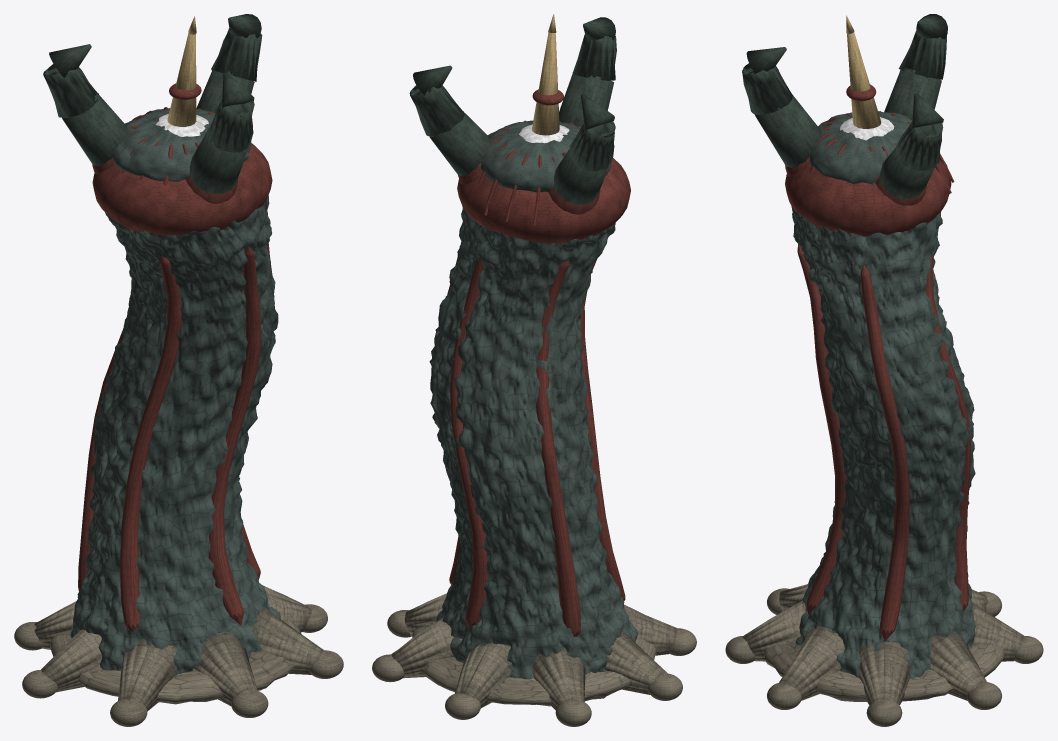
The model's file is MortarLeech.glb.
3 views of the same model, side by side, from view 1: azimuth 30°, elevation 25°; view 2: azimuth 150°, elevation 25°; view 3: azimuth 270°, elevation 25° (orthographic). The views are drawn at different scales.
Visible parts, largest first — view 1: Anchored soft column, Collar base, Tension rib 3, Tension rib 4, Raised annular mantle, Ground adhesion pad, Mineral holdfast 5, Mineral holdfast 6, Upper hook shaft 2, Mineral holdfast 7, Upper hook shaft 3, Mineral holdfast 4 (+17 smaller); view 2: Anchored soft column, Collar base, Tension rib 2, Raised annular mantle, Ground adhesion pad, Tension rib 1, Mineral holdfast 2, Mineral holdfast 3, Upper hook shaft 1, Mineral holdfast 1, Mineral holdfast 4, Tension rib 3 (+17 smaller); view 3: Anchored soft column, Collar base, Tension rib 0, Raised annular mantle, Tension rib 4, Ground adhesion pad, Mineral holdfast 0, Mineral holdfast 7, Upper hook shaft 3, Tension rib 1, Mineral holdfast 1, Mineral holdfast 6 (+16 smaller).
Boxes of the visible parts, x1,y1,x2,y2 form: Anchored soft column: (70,195,280,675); Collar base: (92,143,272,235); Tension rib 3: (119,255,181,632); Tension rib 4: (208,246,261,624); Raised annular mantle: (112,108,251,181); Ground adhesion pad: (50,620,301,704); Mineral holdfast 5: (118,639,177,711); Mineral holdfast 6: (194,632,257,705); Upper hook shaft 2: (62,93,127,166); Mineral holdfast 7: (252,606,325,674); Upper hook shaft 3: (189,131,248,194); Mineral holdfast 4: (41,629,102,692); Anchored soft column: (429,206,638,679); Collar base: (457,158,630,243); Tension rib 2: (536,259,580,636); Raised annular mantle: (480,120,610,192); Ground adhesion pad: (412,626,656,706); Tension rib 1: (450,257,488,627); Mineral holdfast 2: (455,642,511,708); Mineral holdfast 3: (532,648,585,710); Upper hook shaft 1: (429,112,491,176); Mineral holdfast 1: (391,617,462,678); Mineral holdfast 4: (604,631,667,694); Tension rib 3: (580,258,625,600); Anchored soft column: (791,205,975,679); Collar base: (785,160,951,237); Tension rib 0: (860,264,909,641); Raised annular mantle: (810,111,912,183); Tension rib 4: (797,244,846,614); Ground adhesion pad: (763,598,1004,701); Mineral holdfast 0: (858,639,912,705); Mineral holdfast 7: (779,626,844,700); Upper hook shaft 3: (754,95,821,168); Tension rib 1: (925,256,970,611); Mineral holdfast 1: (929,631,986,700); Mineral holdfast 6: (742,600,805,661).
Bounding box in the file's own units: 1.12 × 2.38 × 1.05.
Materials: 6 (6 with a texture image).
